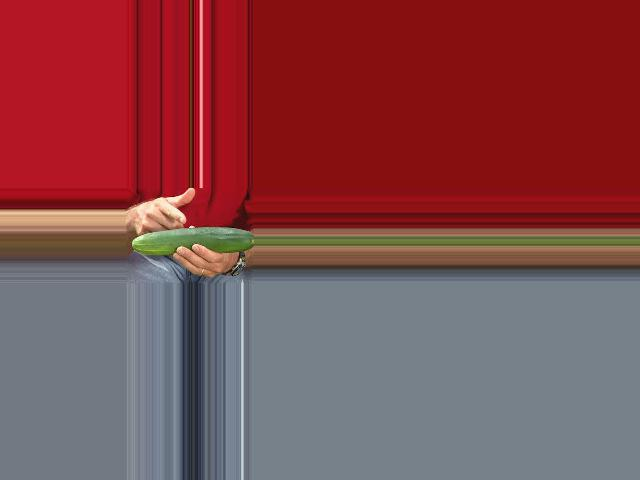cucumber: (132, 227, 254, 256)
